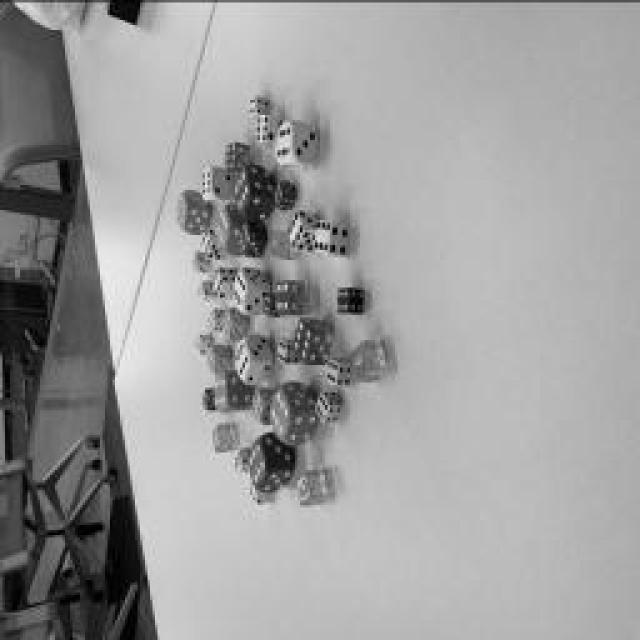dice_6: (271, 388, 291, 438), (292, 318, 312, 362), (350, 341, 370, 379), (276, 120, 294, 162), (249, 442, 266, 486), (235, 166, 250, 209), (288, 210, 304, 250), (215, 206, 230, 246), (314, 220, 331, 252), (275, 278, 290, 314), (236, 340, 249, 378), (298, 471, 312, 504), (215, 372, 227, 410), (234, 271, 246, 309), (239, 220, 251, 255), (316, 392, 329, 422), (326, 357, 339, 385), (178, 192, 188, 228), (201, 166, 211, 199), (258, 114, 270, 141), (225, 141, 235, 171), (212, 268, 222, 298), (338, 288, 350, 312), (252, 391, 262, 419), (271, 229, 281, 256), (202, 229, 212, 256), (278, 338, 288, 362), (272, 183, 282, 205), (207, 346, 215, 372), (214, 422, 221, 450), (250, 479, 258, 501), (224, 310, 231, 335), (264, 291, 271, 314), (202, 389, 210, 409), (191, 251, 199, 271), (234, 450, 241, 470), (249, 95, 256, 115), (209, 310, 216, 328), (198, 281, 204, 299), (196, 336, 202, 354)
